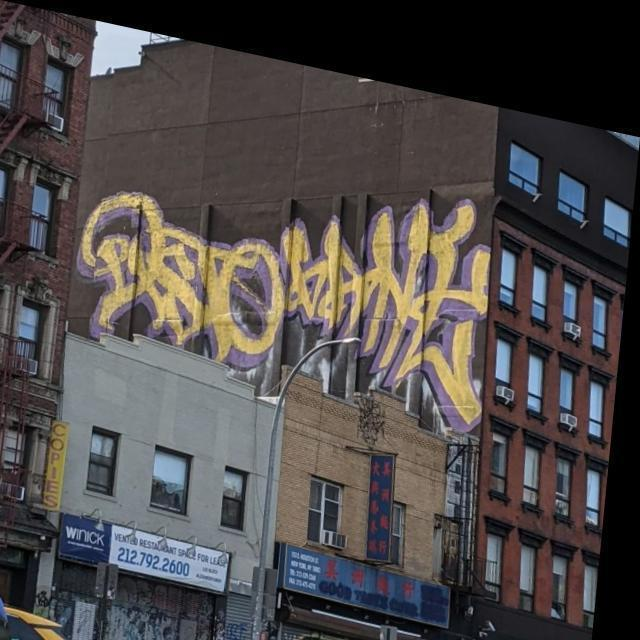nonspitting: (79, 186, 488, 432)
